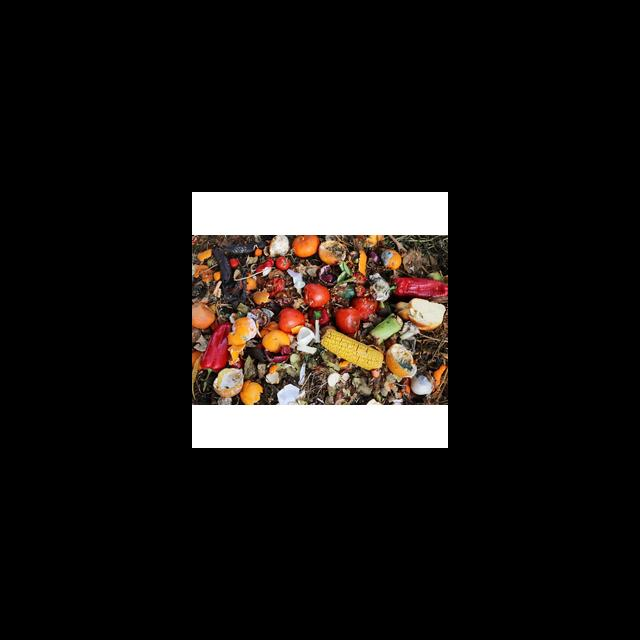food_waste: (321, 322, 389, 378), (380, 339, 434, 386), (368, 304, 410, 354), (198, 249, 242, 295), (240, 266, 282, 308), (403, 291, 448, 327), (213, 363, 253, 401), (390, 274, 448, 300), (257, 321, 295, 354), (295, 278, 337, 307), (231, 310, 263, 348), (314, 367, 353, 393), (194, 304, 227, 334), (293, 234, 327, 263), (256, 237, 292, 264), (268, 380, 306, 405), (331, 304, 364, 331), (295, 324, 321, 358), (321, 236, 346, 270), (342, 292, 378, 313), (245, 381, 273, 407), (357, 249, 379, 280), (273, 252, 299, 274), (387, 245, 406, 271)
